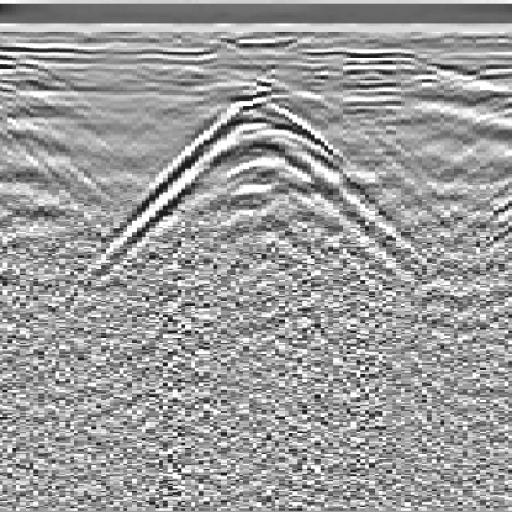metalic: (120, 66, 390, 290)
